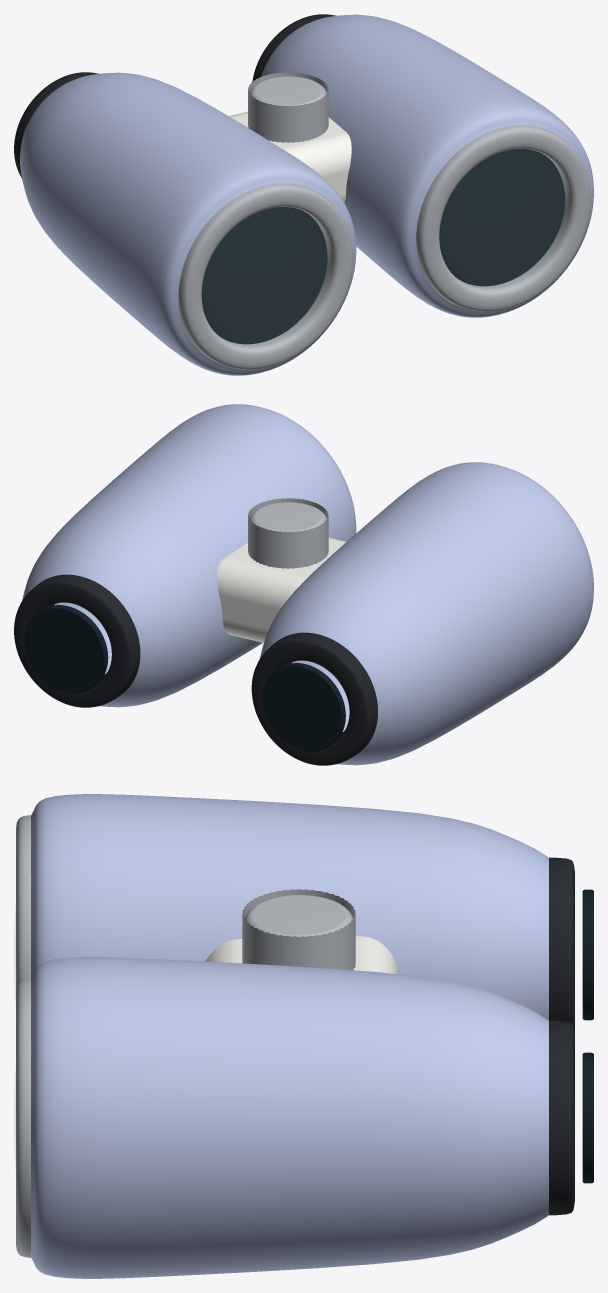
File: binoculars.glb
The picture shows the model from 3 angles, top to bottom: view 1: azimuth 30°, elevation 25°; view 2: azimuth 150°, elevation 25°; view 3: azimuth 270°, elevation 25°; orthographic projection. The views are drawn at different scales.
Visible parts, largest first — view 1: continuous-hollow-optical-barrel (×2), convex-transparent-window (×2), machined-annular-ring (×4), left-objective-optics-007, right-objective-optics-013, focus-wheel-002, bridge-and-focus-001, focus-wheel-003; view 2: continuous-hollow-optical-barrel (×2), machined-annular-ring (×2), left-eyepiece-009, right-eyepiece-015, bridge-and-focus-001, focus-wheel-002, focus-wheel-003; view 3: continuous-hollow-optical-barrel (×2), machined-annular-ring (×4), focus-wheel-002, focus-wheel-003, bridge-and-focus-001, left-eyepiece-009, right-eyepiece-015.
Boxes of the visible parts, x1,y1,x2,y2 form: continuous-hollow-optical-barrel (×2): [20, 14, 593, 375]; convex-transparent-window (×2): [202, 149, 568, 346]; machined-annular-ring (×4): [14, 14, 590, 369]; left-objective-optics-007: [201, 207, 327, 344]; right-objective-optics-013: [439, 149, 565, 286]; focus-wheel-002: [248, 72, 328, 142]; bridge-and-focus-001: [229, 111, 351, 203]; focus-wheel-003: [250, 76, 326, 106]; continuous-hollow-optical-barrel (×2): [22, 404, 593, 765]; machined-annular-ring (×2): [14, 574, 377, 765]; left-eyepiece-009: [262, 663, 345, 751]; right-eyepiece-015: [25, 605, 108, 693]; bridge-and-focus-001: [217, 537, 346, 642]; focus-wheel-002: [248, 498, 328, 568]; focus-wheel-003: [250, 502, 326, 531]; continuous-hollow-optical-barrel (×2): [31, 794, 548, 1278]; machined-annular-ring (×4): [16, 815, 574, 1257]; focus-wheel-002: [242, 889, 355, 970]; focus-wheel-003: [245, 895, 352, 936]; bridge-and-focus-001: [205, 936, 397, 974]; left-eyepiece-009: [582, 889, 593, 1020]; right-eyepiece-015: [582, 1052, 593, 1183].
Size of the model in its own units: 2 by 0.9096 by 1.64.
